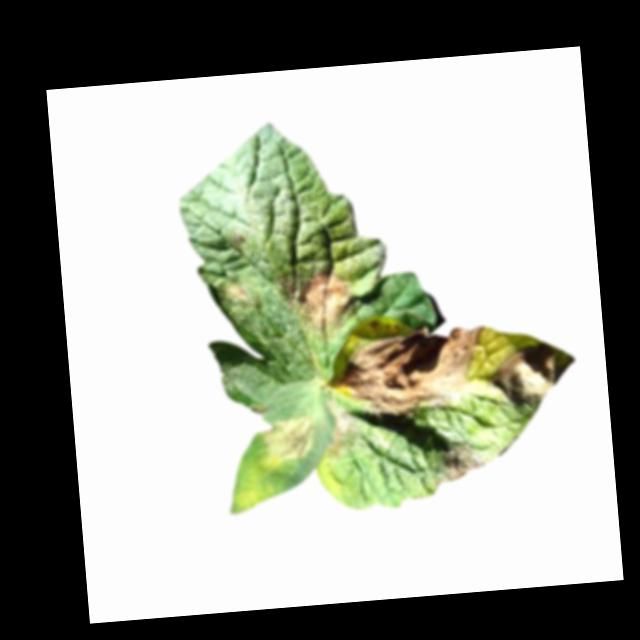Late_blight: (327, 326, 490, 419), (487, 339, 577, 411), (280, 261, 356, 337), (262, 410, 318, 464), (429, 442, 486, 488), (321, 395, 359, 463), (223, 279, 252, 308)
